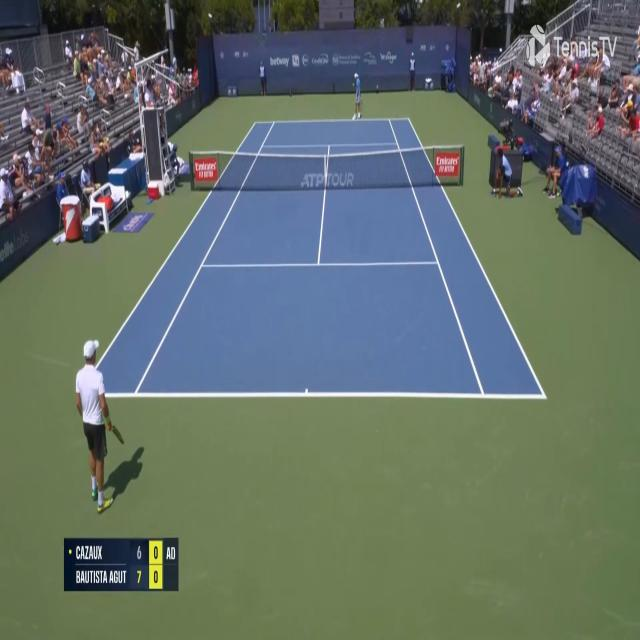tennis-player: (72, 336, 128, 511), (351, 70, 364, 122)
